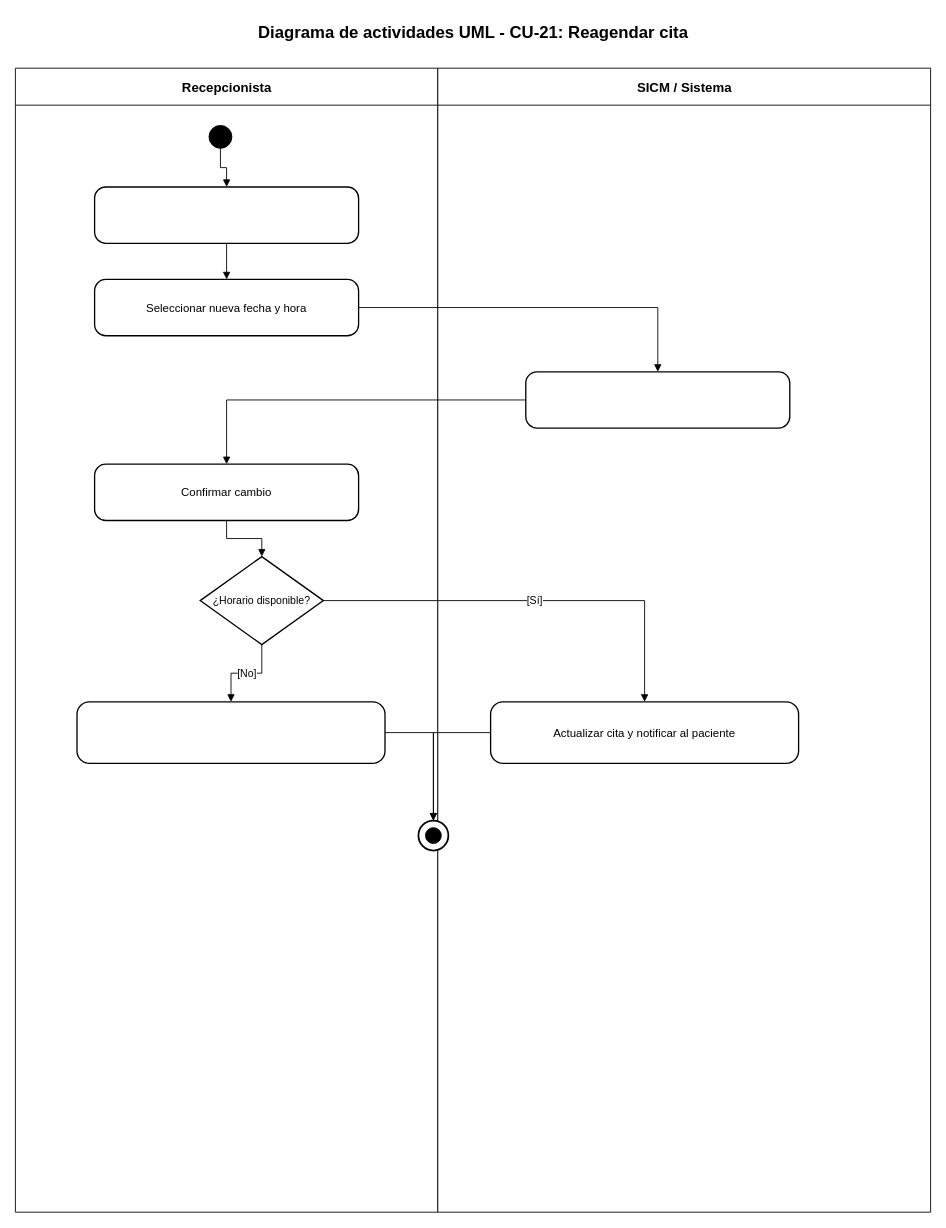
This 946x1228 diagram has some shape labels left out. Here are the shapes that lost their labels. From the top down, the centre of each, then its label:
pixel 226 215: Buscar cita del paciente
pixel 657 399: Comprobar disponibilidad
pixel 230 732: Mostrar horarios alternativos
